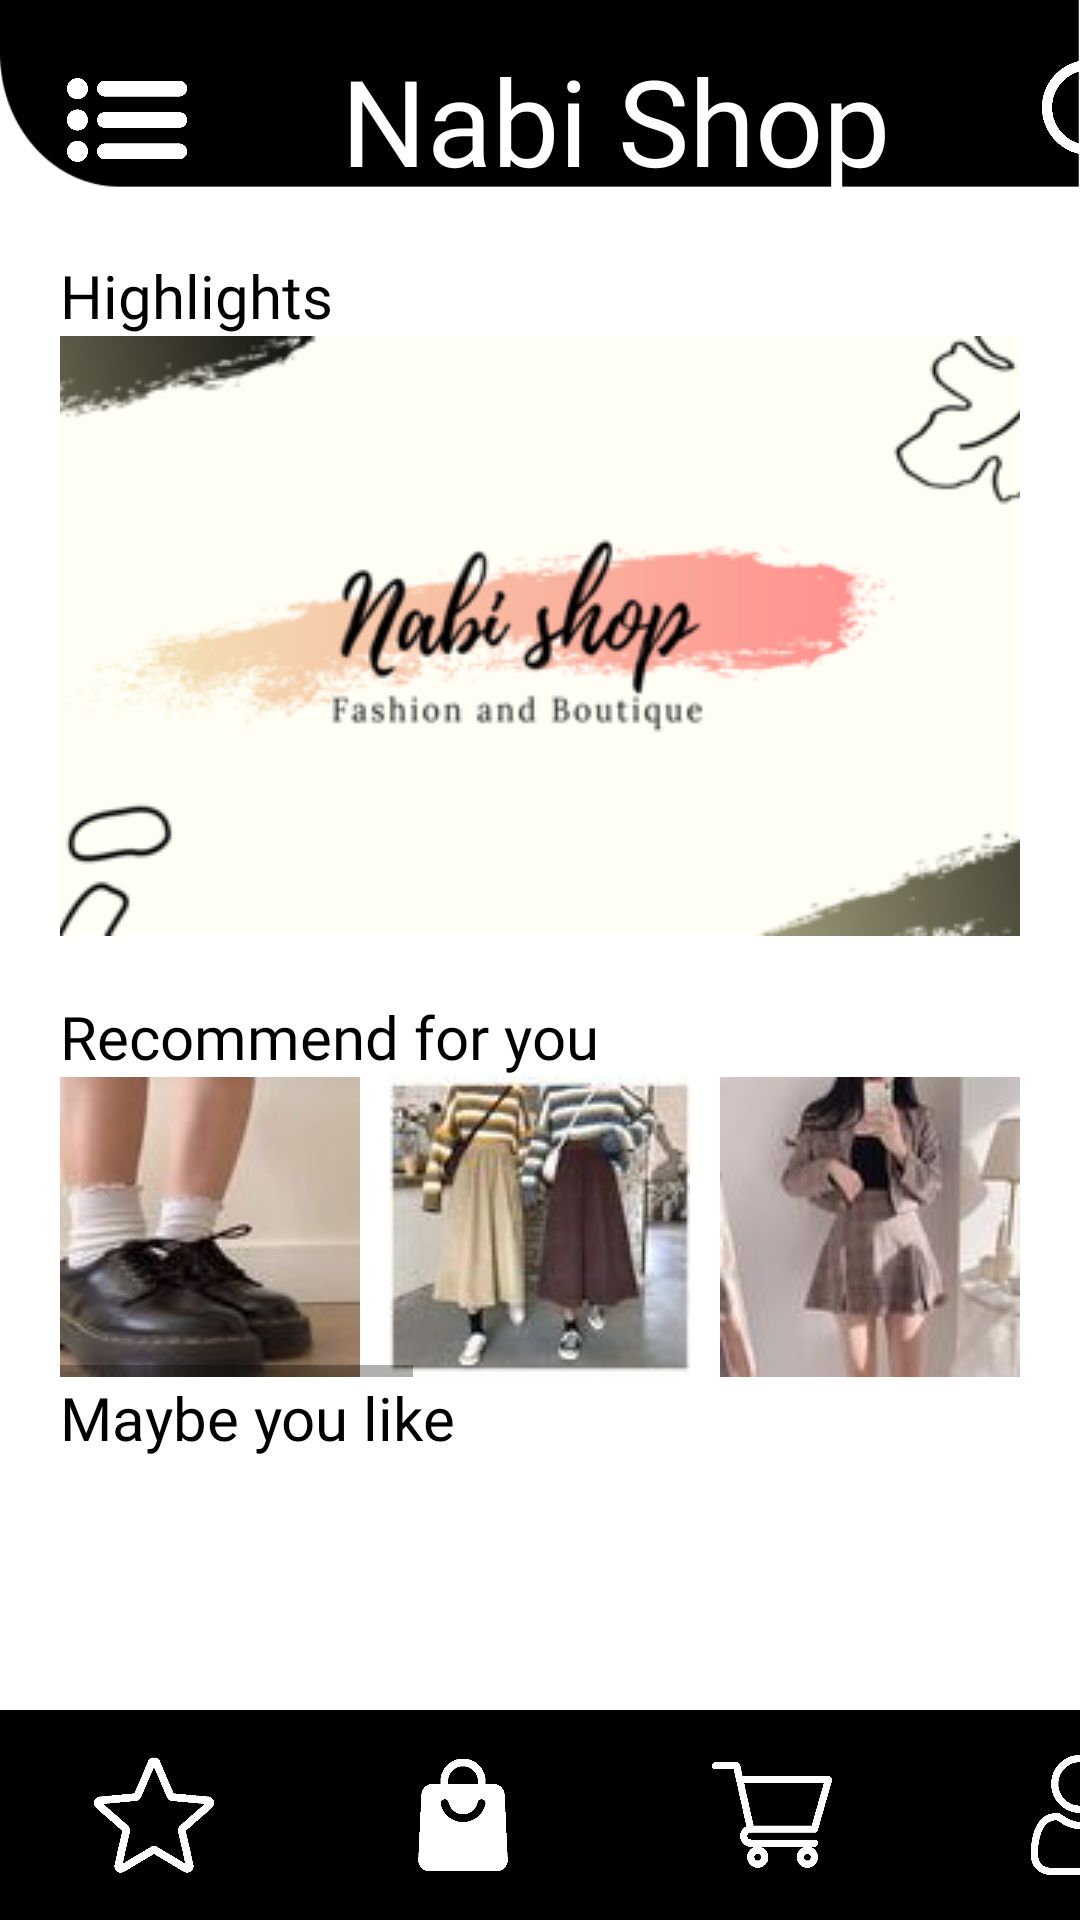

Named icons in this screenshot (1080px x 1920px) and their bounding boxes, (x1, y1, x2, y2):
bag: (418, 1759, 508, 1871)
danhmuc: (67, 78, 187, 162)
giohang: (712, 1762, 832, 1868)
sao: (94, 1757, 214, 1873)
